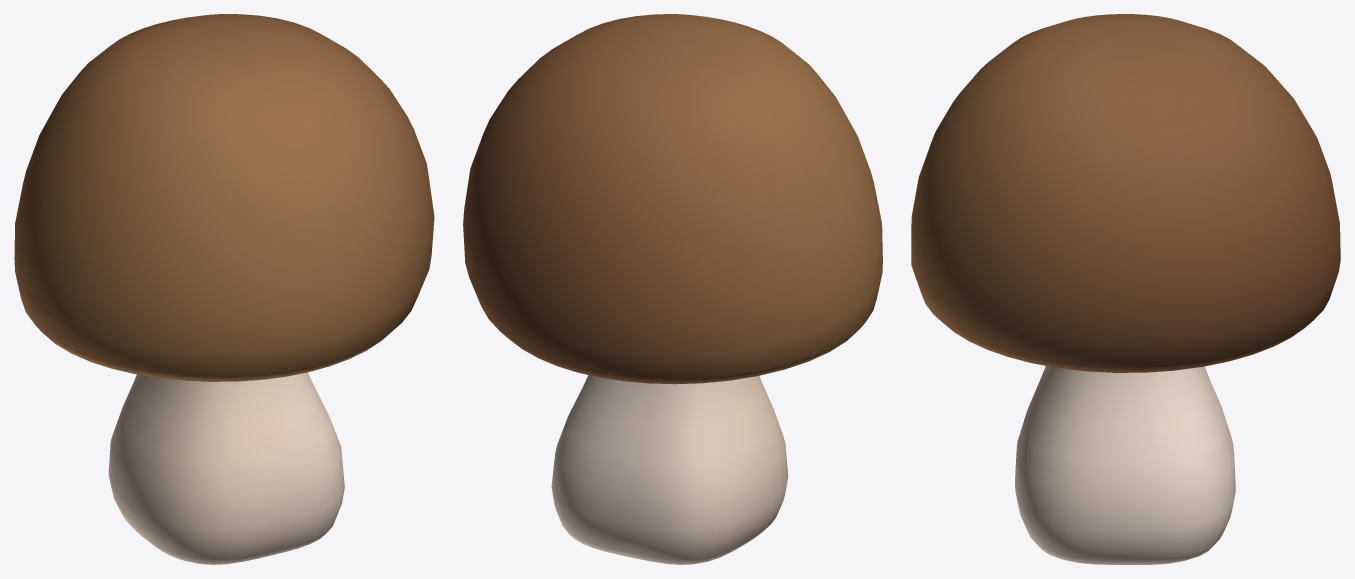
Rendered from mushroom 21.fbx.
3 renders of one model, left to right at view 1: azimuth 30°, elevation 25°; view 2: azimuth 150°, elevation 25°; view 3: azimuth 270°, elevation 25°, orthographic.
Parts seen in each view (by area): view 1: Mushroom_0001_0021; view 2: Mushroom_0001_0021; view 3: Mushroom_0001_0021.
Part boxes in pixels (bbox=[...]): Mushroom_0001_0021: bbox=[14, 14, 434, 564]; Mushroom_0001_0021: bbox=[463, 14, 882, 564]; Mushroom_0001_0021: bbox=[911, 14, 1340, 564].
Size of the model in its own units: 15.32 by 19.72 by 15.63.
1 material, 1 textured.
